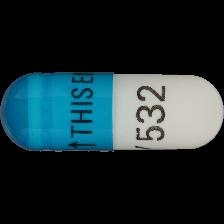76237-155: (0, 0, 224, 224)
